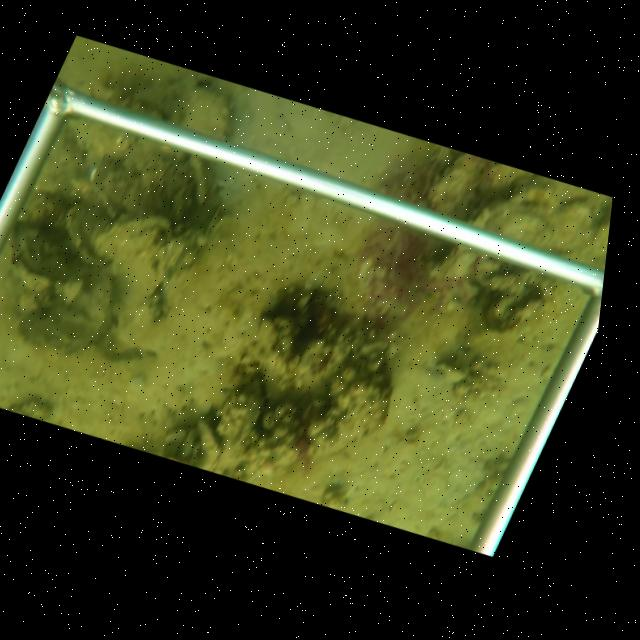Oyster-Open: (70, 218, 111, 266)
